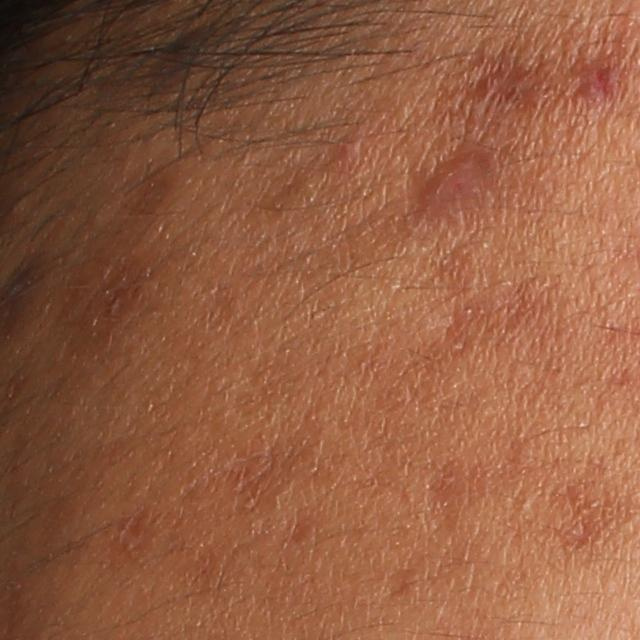papule: (415, 159, 480, 215)
